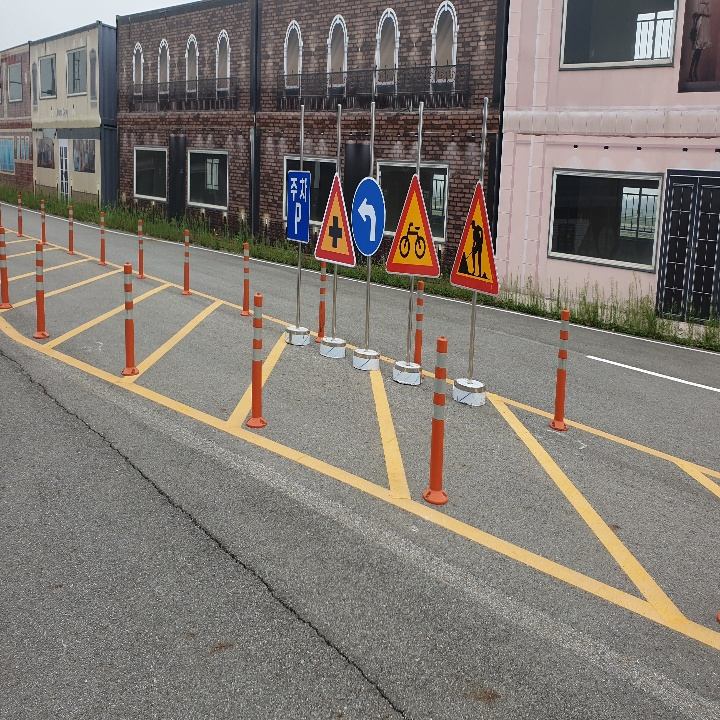bicycle: (382, 173, 440, 274)
const: (456, 213, 492, 284)
inter: (321, 217, 347, 251)
